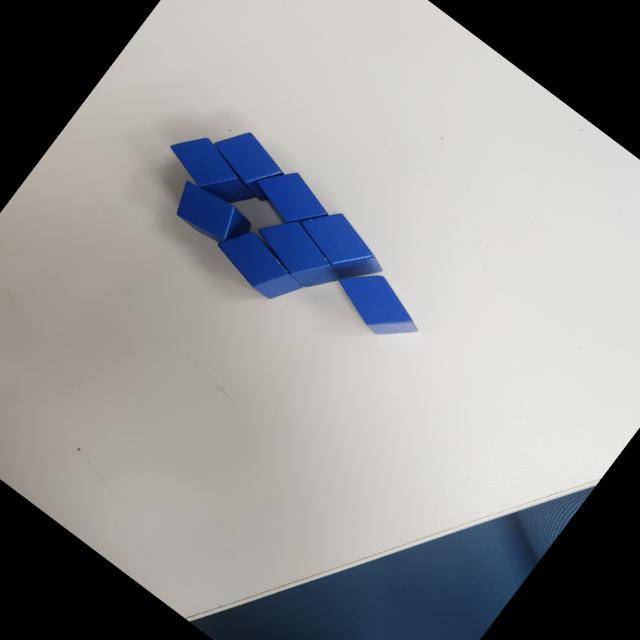blue: (324, 255, 432, 354), (288, 196, 396, 295), (245, 205, 354, 303), (160, 123, 267, 219), (208, 220, 312, 312), (202, 118, 294, 204), (245, 156, 338, 241), (166, 174, 256, 257)
